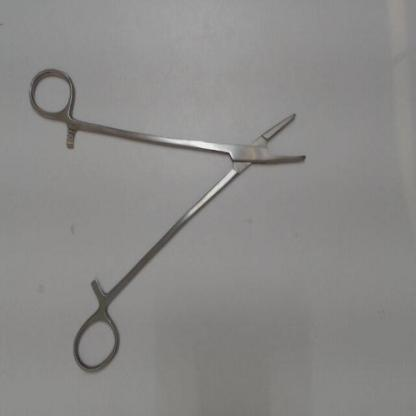8 Mayo Needle Holder: (23, 61, 319, 378)
